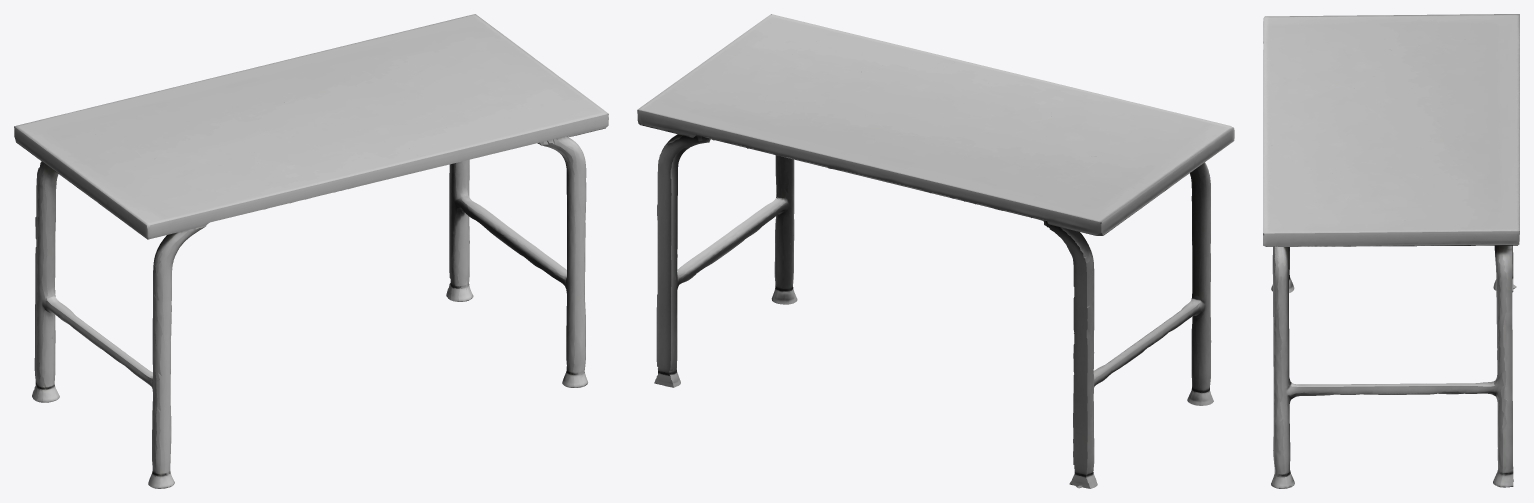
The picture shows the model from 3 angles, left to right: view 1: azimuth 30°, elevation 25°; view 2: azimuth 150°, elevation 25°; view 3: azimuth 270°, elevation 25°; orthographic projection. The views are drawn at different scales.
Size of the model in its own units: 1.5 by 0.85 by 0.75.
1 material, 1 textured.
